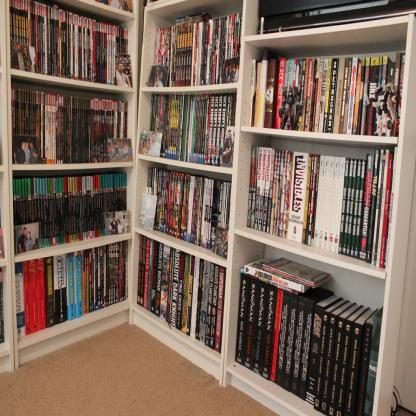book: (17, 0, 416, 375), (0, 267, 3, 345), (0, 226, 3, 260)
